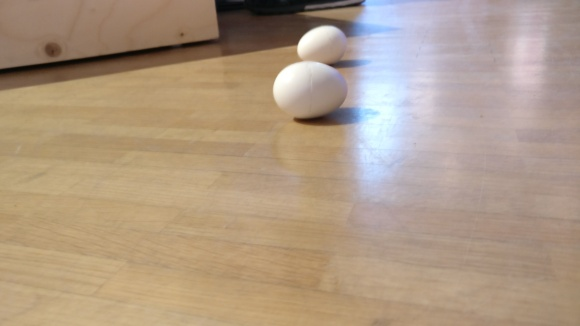egg: (271, 60, 348, 124), (296, 24, 348, 63)
